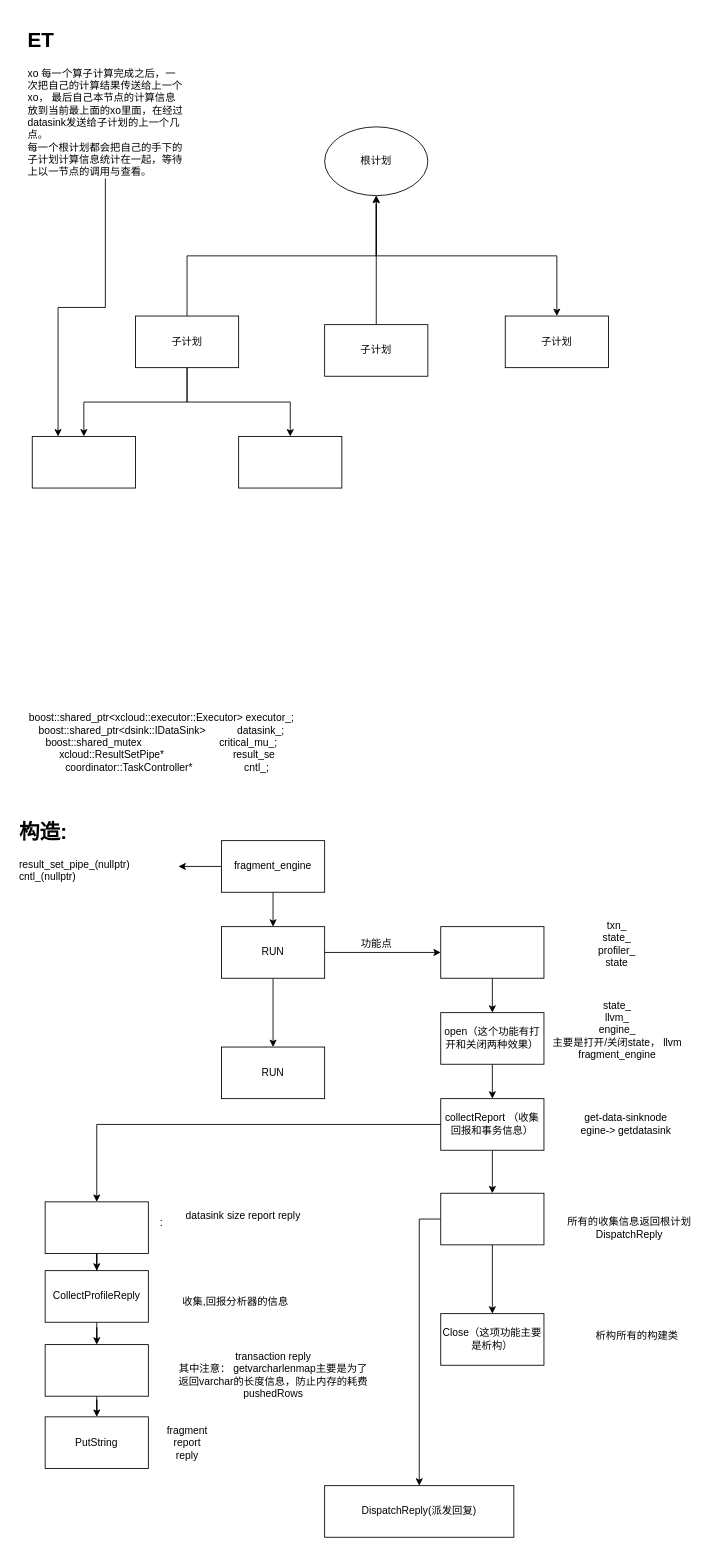
Some shapes in this 712 by 1552 pixel diagram are drawn without their labels. Each missing label, with the centre of its shape:
"CollectDsinkSizeReply" goes at point (96, 1227).
"CollectTransaction Reply" goes at point (96, 1370).
"datasink" goes at point (290, 462).
"init" goes at point (492, 952).
"ReportToCoorfinator" goes at point (492, 1218).
"xo ET： xo xo xo" goes at point (83, 462).
